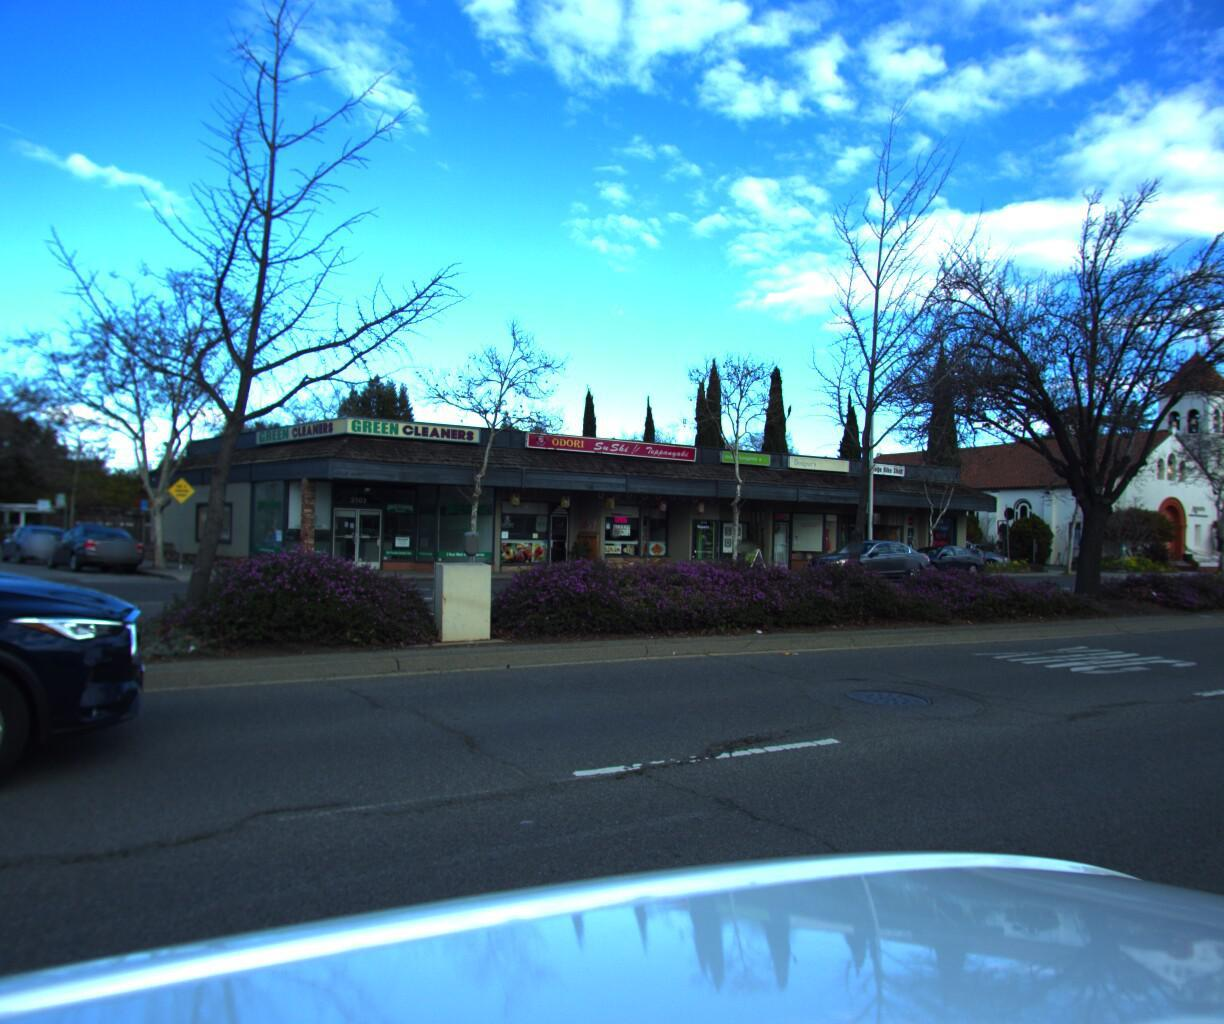car: (0, 440, 172, 984), (795, 531, 931, 581), (36, 522, 150, 576), (875, 538, 987, 578), (0, 521, 86, 567), (914, 538, 1003, 567)
